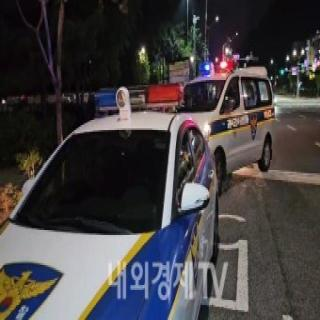Police_car: (0, 81, 219, 320), (174, 57, 274, 197)
